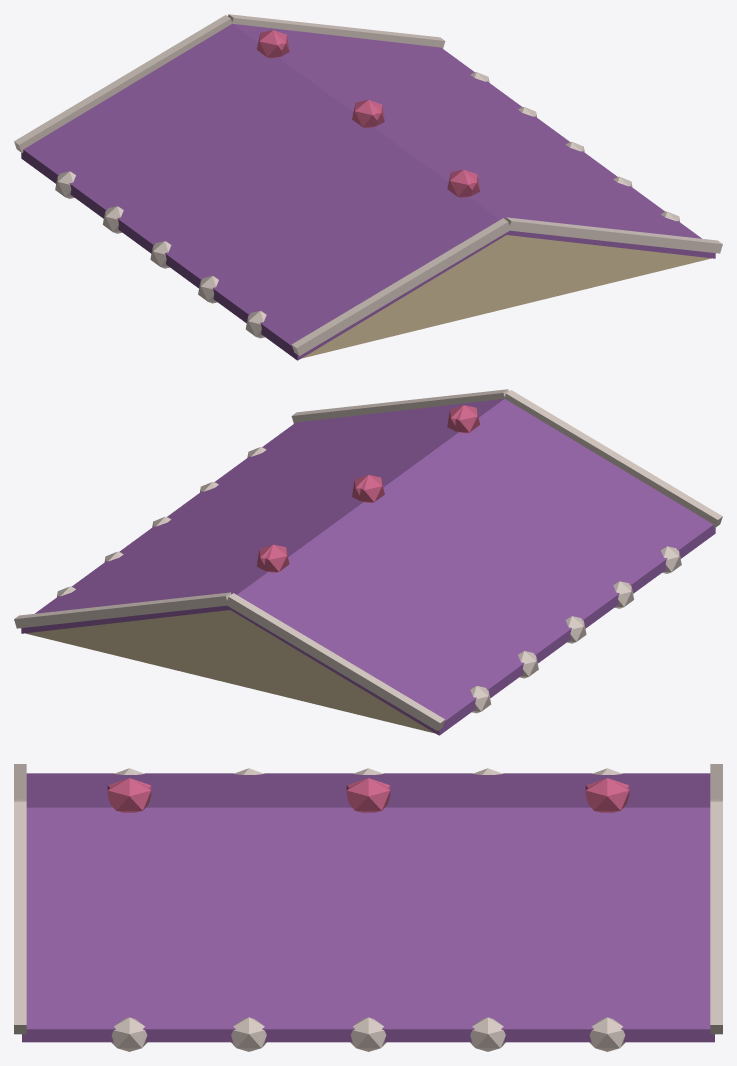
Rendered from Candyland_SweetShopRoof_Showcase.glb.
3 renders of one model, top to bottom at view 1: azimuth 30°, elevation 25°; view 2: azimuth 150°, elevation 25°; view 3: azimuth 270°, elevation 25°, orthographic. The views are drawn at different scales.
Parts seen in each view (by area): view 1: Candyland_SweetShopRoof_Showcase; view 2: Candyland_SweetShopRoof_Showcase; view 3: Candyland_SweetShopRoof_Showcase.
Part boxes in pixels (x1,y1,x2,y2): Candyland_SweetShopRoof_Showcase: [14, 14, 722, 360]; Candyland_SweetShopRoof_Showcase: [14, 389, 722, 735]; Candyland_SweetShopRoof_Showcase: [14, 764, 722, 1051].
Bounding box in the file's own units: 7.83 × 2.07 × 8.9.
